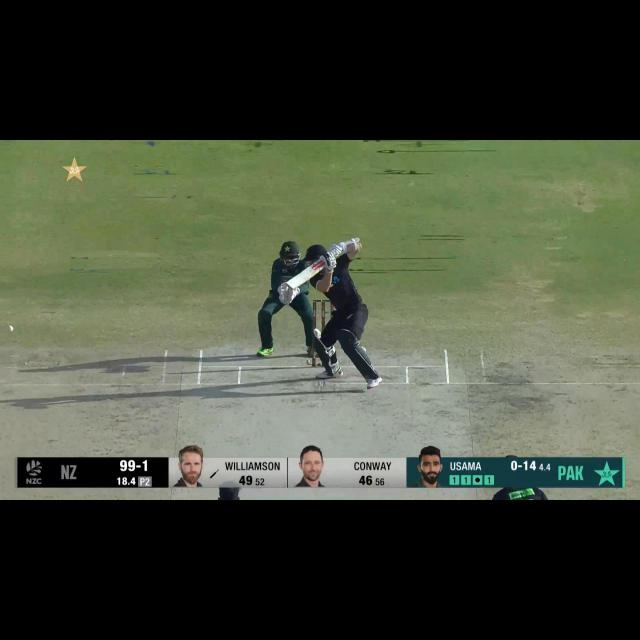bat: (287, 260, 328, 289)
toe: (284, 279, 300, 292)
